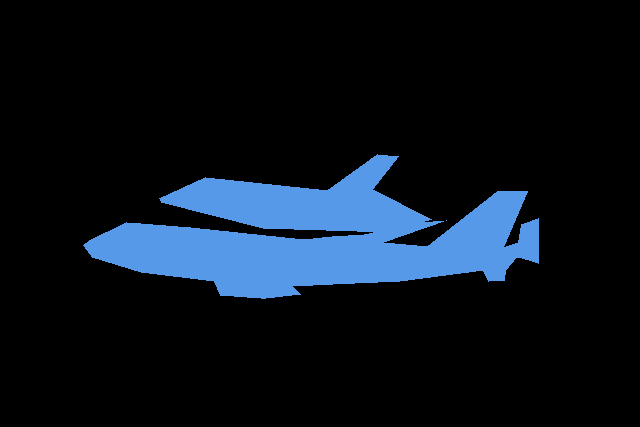Airplane: (83, 191, 538, 298), (159, 154, 432, 233)
